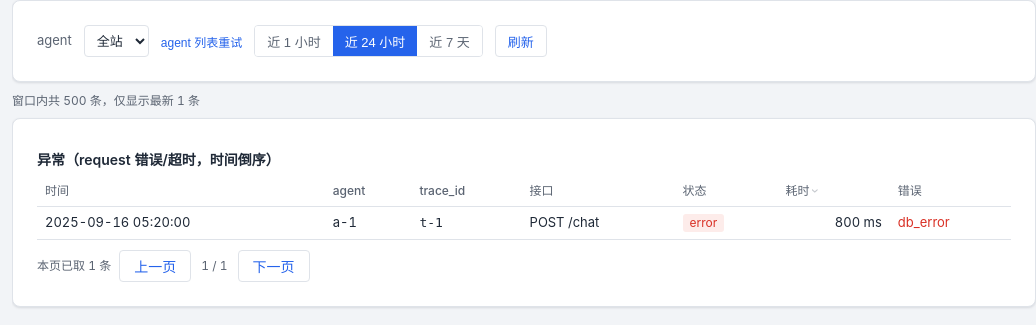
Test: P1-6 异常页按耗时排序 › 截断提示措辞随排序变：duration 序说「最慢」，不是「最新」
Click the column heading "耗时 ›": (834, 191) x1=778 y1=176 x2=890 y2=206
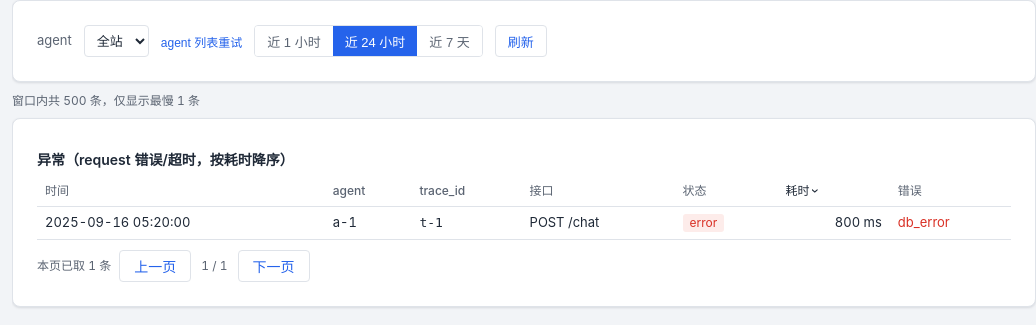
Now the text with class "trunc-hint" shows "仅显示最慢", box x1=12 y1=93 x2=200 y2=108
Now the text with class "trunc-hint" no longer shows "最新"
